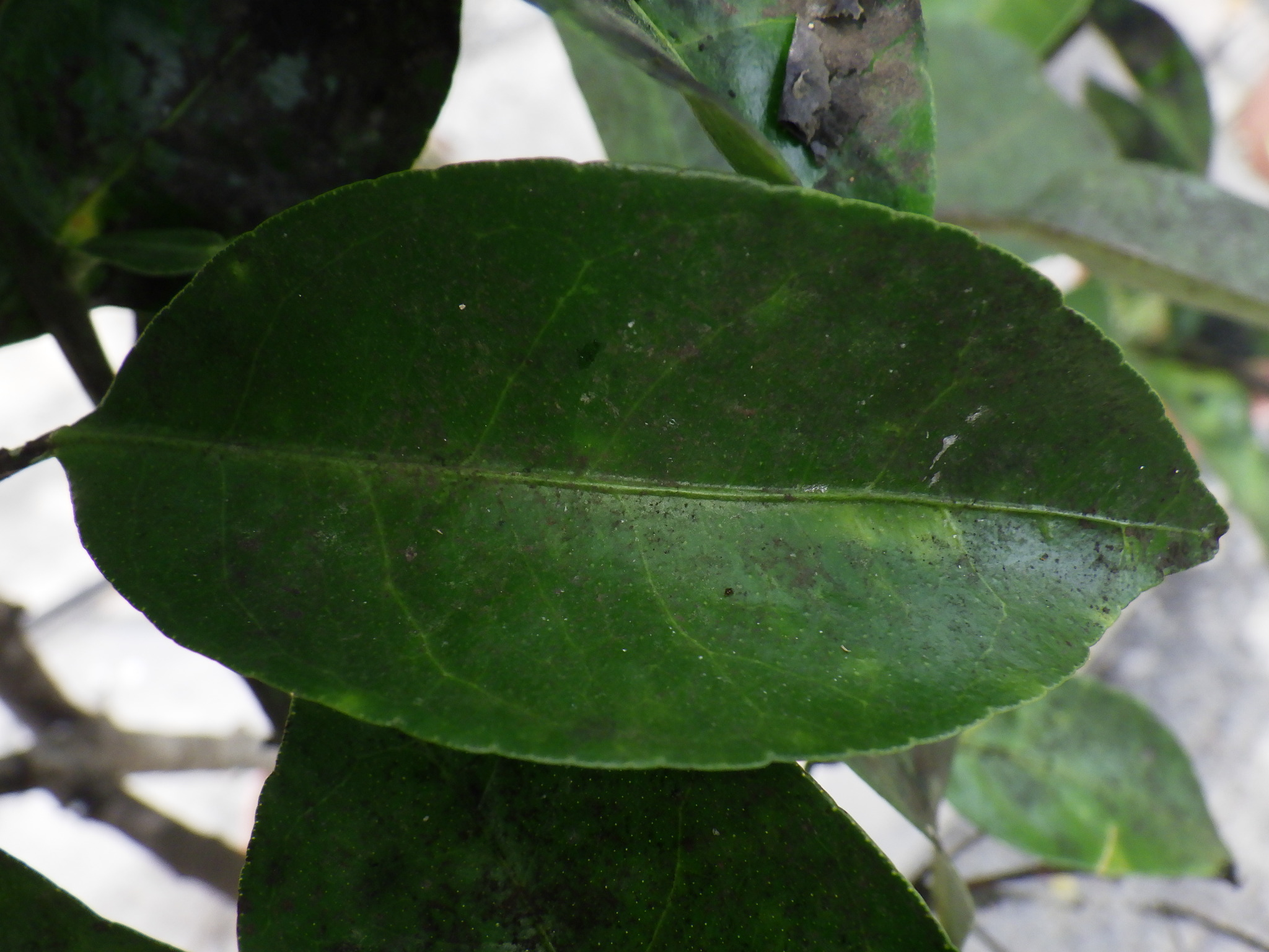Sooty_Mold: (50, 161, 1223, 767)
